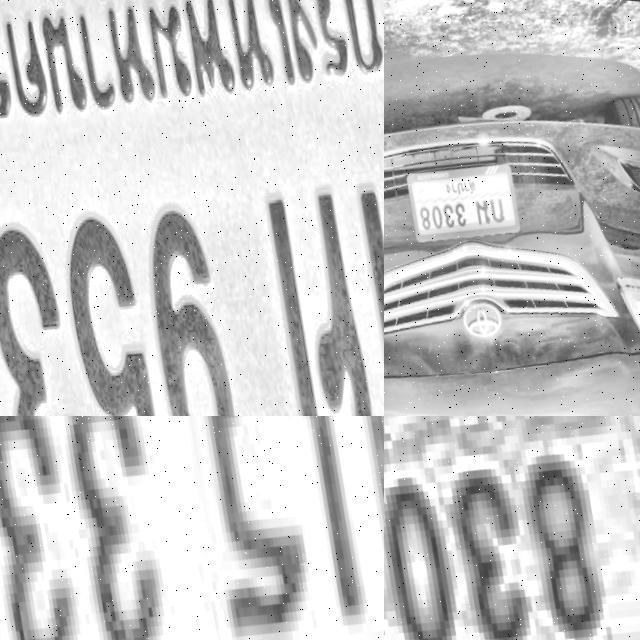license-plate: (0, 0, 384, 416), (0, 416, 384, 640), (384, 416, 640, 640), (406, 150, 524, 250)
